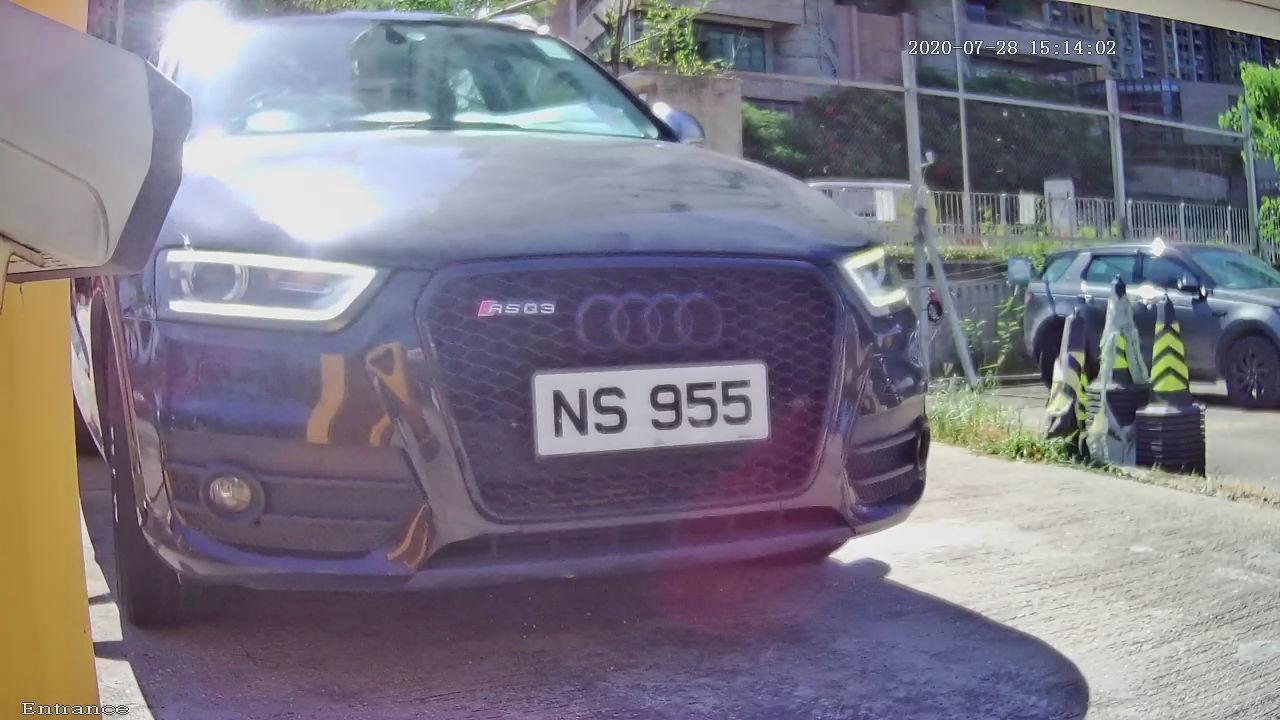privatecar: (12, 20, 1041, 666)
